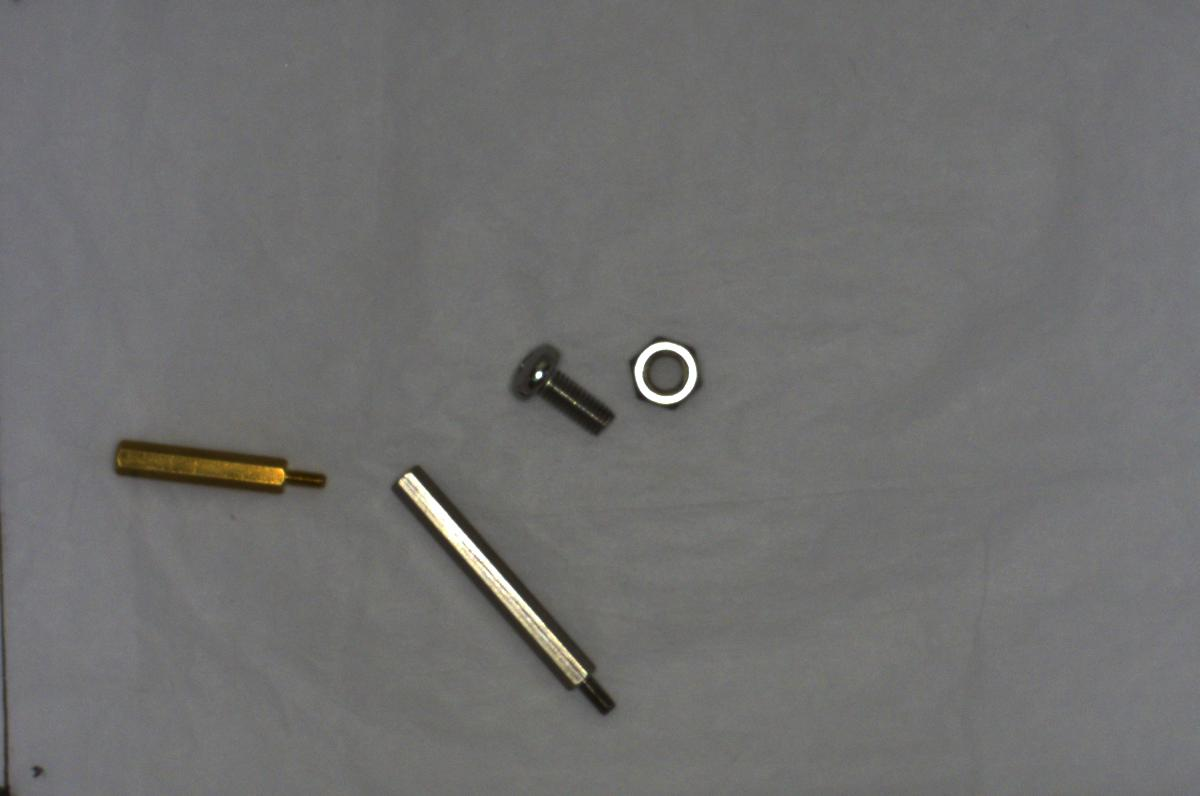Hexagon nut: (626, 328, 706, 415)
Hexagon pillar: (95, 433, 338, 510)
Hexagonal steel column: (388, 462, 626, 723)
Round head screw: (494, 338, 621, 442)
